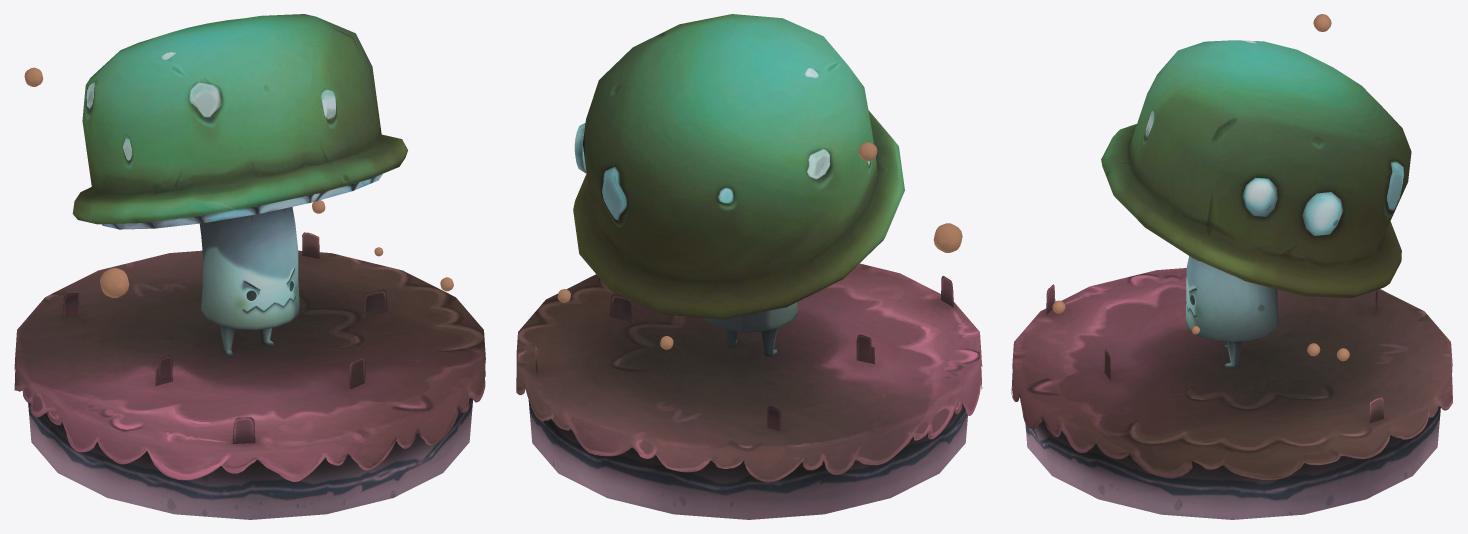
Rendered from mushroom164.gltf.
3 views of the same model, side by side, from view 1: azimuth 30°, elevation 25°; view 2: azimuth 150°, elevation 25°; view 3: azimuth 270°, elevation 25° (orthographic). The views are drawn at different scales.
Visible parts, largest first — view 1: Mesh_0, Mesh_1; view 2: Mesh_0, Mesh_1; view 3: Mesh_0, Mesh_1.
Boxes of the visible parts, x1,y1,x2,y2 form: Mesh_0: (14, 67, 485, 519); Mesh_1: (72, 14, 407, 356); Mesh_0: (516, 142, 982, 519); Mesh_1: (573, 14, 904, 356); Mesh_0: (1011, 14, 1452, 519); Mesh_1: (1101, 40, 1411, 367).
Bounding box in the file's own units: 2.97 × 2.71 × 2.92.
Materials: 2 (2 with a texture image).
